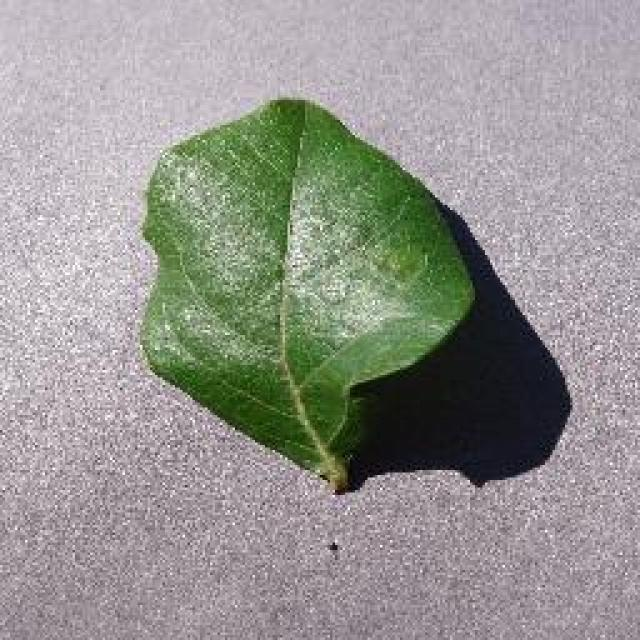Blu_healthy: (142, 129, 470, 449)
